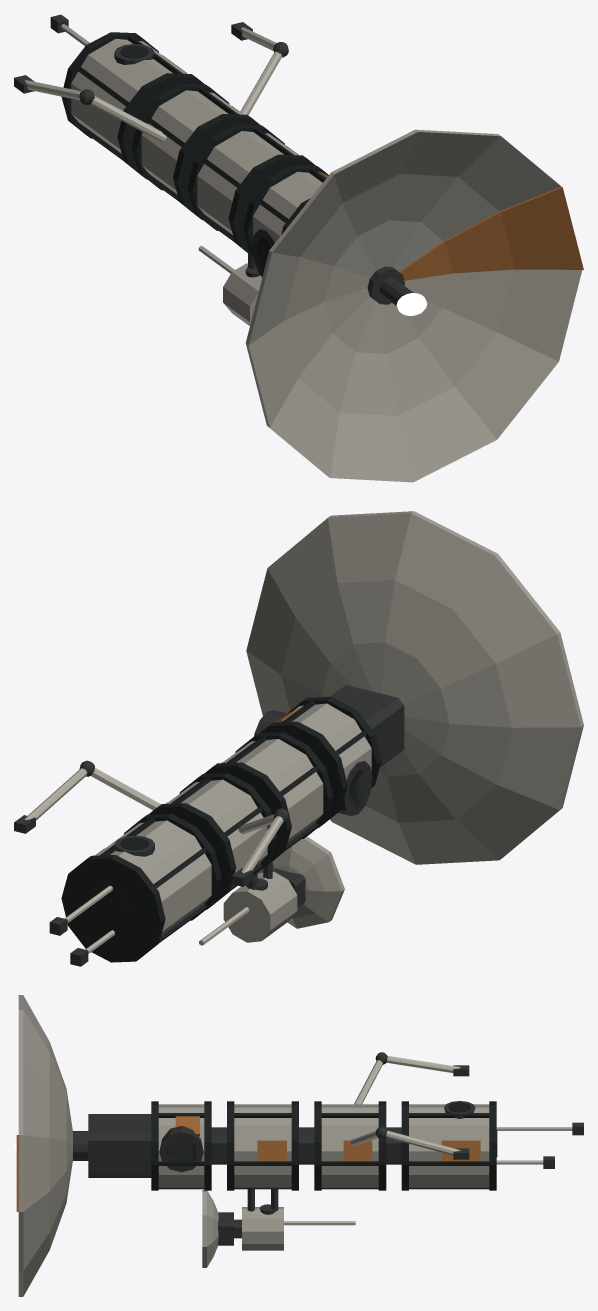
3 renders of one model, top to bottom at view 1: azimuth 30°, elevation 25°; view 2: azimuth 150°, elevation 25°; view 3: azimuth 270°, elevation 25°, orthographic. The views are drawn at different scales.
Visible parts, largest first — view 1: RIMWARD_HULL; view 2: RIMWARD_HULL; view 3: RIMWARD_HULL.
Boxes of the visible parts, bbox=[...] form: RIMWARD_HULL: bbox=[14, 14, 583, 482]; RIMWARD_HULL: bbox=[14, 511, 583, 966]; RIMWARD_HULL: bbox=[16, 995, 583, 1296].
Bounding box in the file's own units: 5.72 × 5.72 × 10.78.
